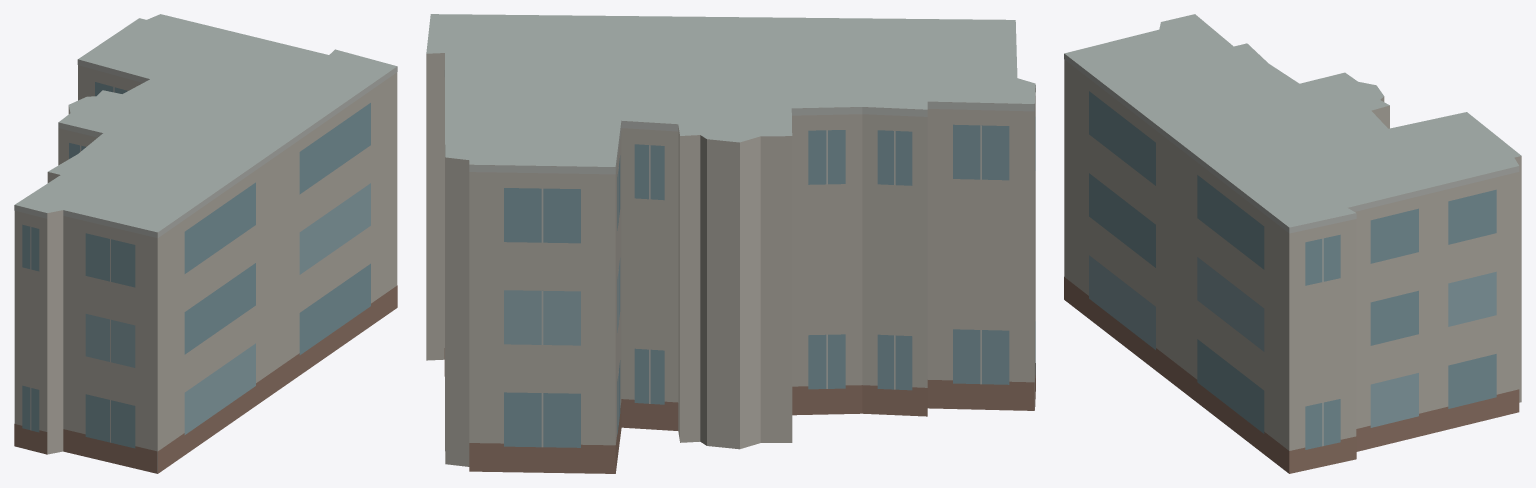
The model's file is survey-upis-32823635.glb.
The picture shows the model from 3 angles, left to right: view 1: azimuth 30°, elevation 25°; view 2: azimuth 150°, elevation 25°; view 3: azimuth 270°, elevation 25°; orthographic projection. The views are drawn at different scales.
Visible parts, largest first — view 1: survey-upis-32823635.tmp; view 2: survey-upis-32823635.tmp; view 3: survey-upis-32823635.tmp.
Part boxes in pixels (bbox=[...]): survey-upis-32823635.tmp: bbox=[14, 14, 397, 473]; survey-upis-32823635.tmp: bbox=[426, 14, 1035, 473]; survey-upis-32823635.tmp: bbox=[1064, 14, 1521, 473].
Bounding box in the file's own units: 18.98 × 10.2 × 17.19.
